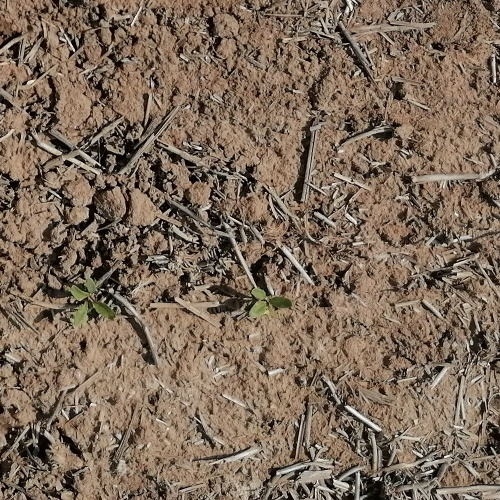beet: (69, 278, 118, 326), (248, 286, 292, 317)
